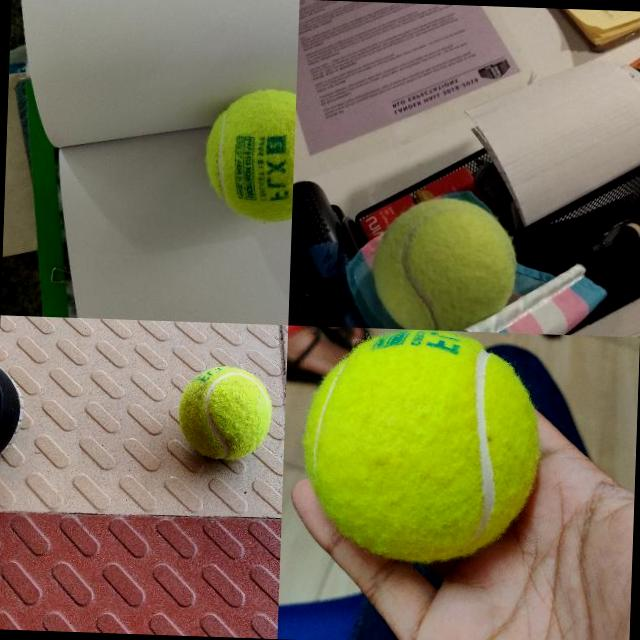Tennis Ball: (300, 326, 542, 564), (371, 195, 520, 301), (202, 85, 296, 222), (177, 364, 273, 459)
